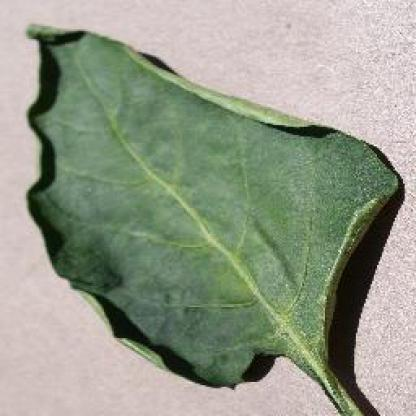good leaf: (29, 0, 371, 399)
